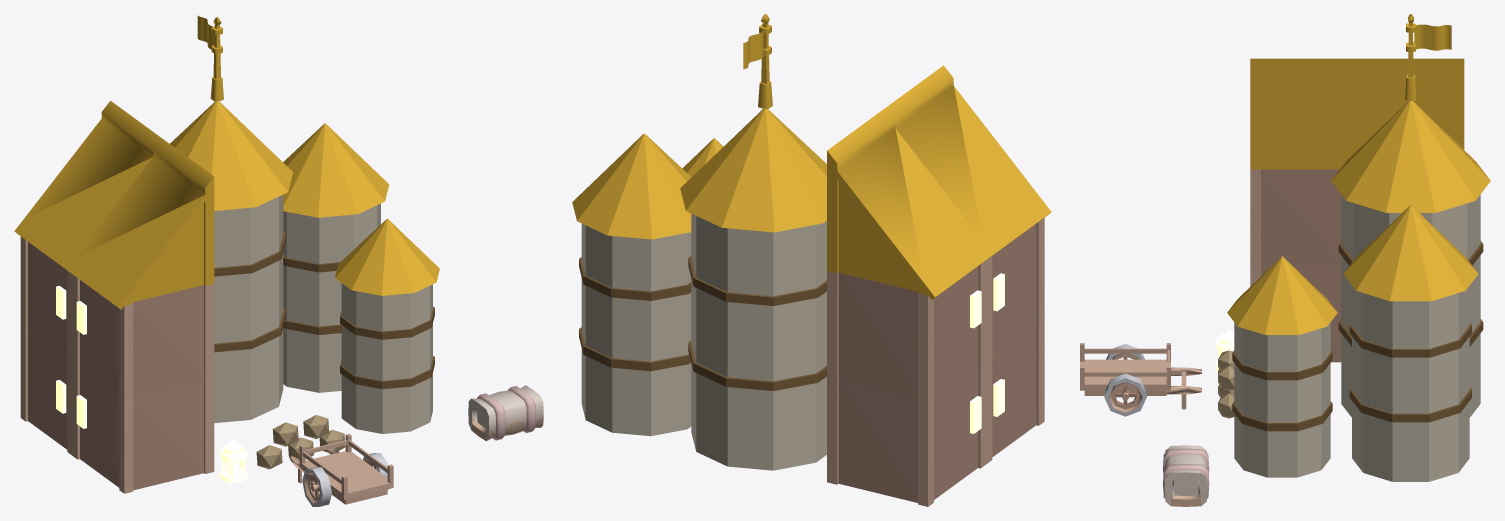
The model's file is granary_l3.glb.
3 renders of one model, left to right at view 1: azimuth 30°, elevation 25°; view 2: azimuth 150°, elevation 25°; view 3: azimuth 270°, elevation 25°, orthographic. The views are drawn at different scales.
Parts seen in each view (by area): view 1: granary_l3; view 2: granary_l3; view 3: granary_l3.
Part boxes in pixels (x1,y1,x2,y2): granary_l3: [14, 15, 543, 506]; granary_l3: [572, 14, 1051, 506]; granary_l3: [1080, 14, 1490, 506].
Bounding box in the file's own units: 7.9 × 7.44 × 7.09.
